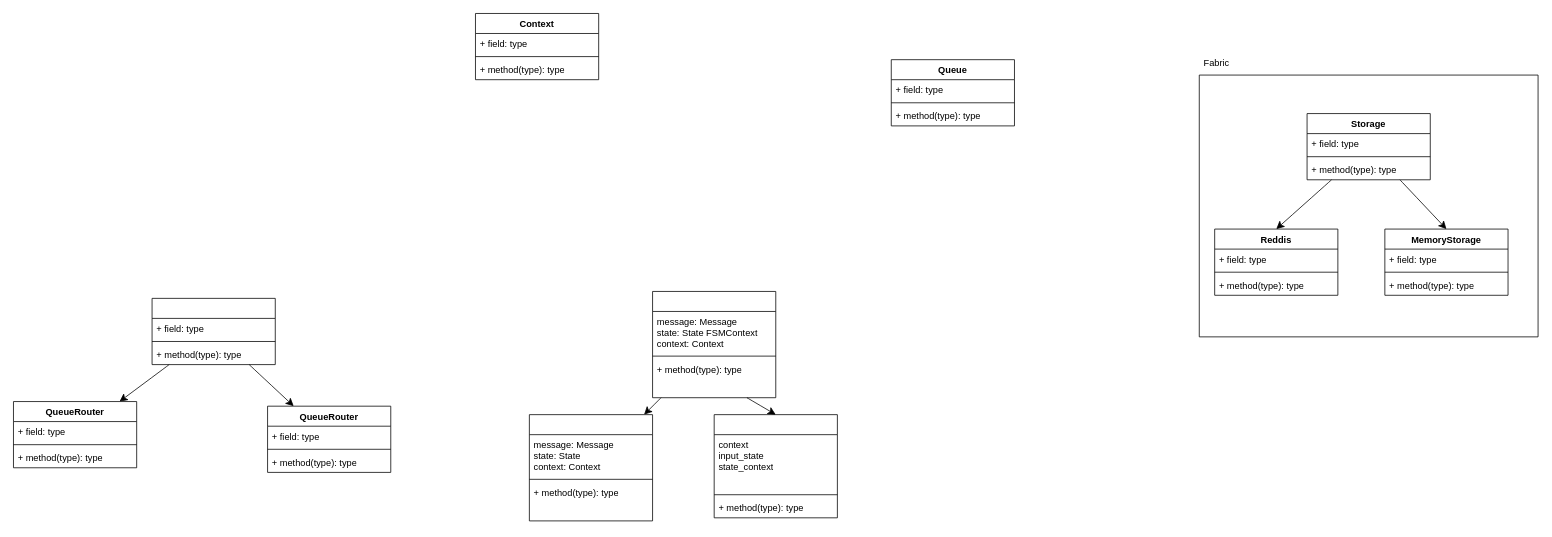
The diagram is 1552 pixels wide and 537 high, and some of its shapes have lost their labels. The shapes that lost their labels are listed below. From the top down, each one's box as (x1, y1, x2, y2) in pixels, then its label:
(151, 298, 275, 365): Router
(652, 291, 776, 398): Command
(529, 414, 653, 521): KeyboardCommand
(713, 414, 837, 518): InputCommand
